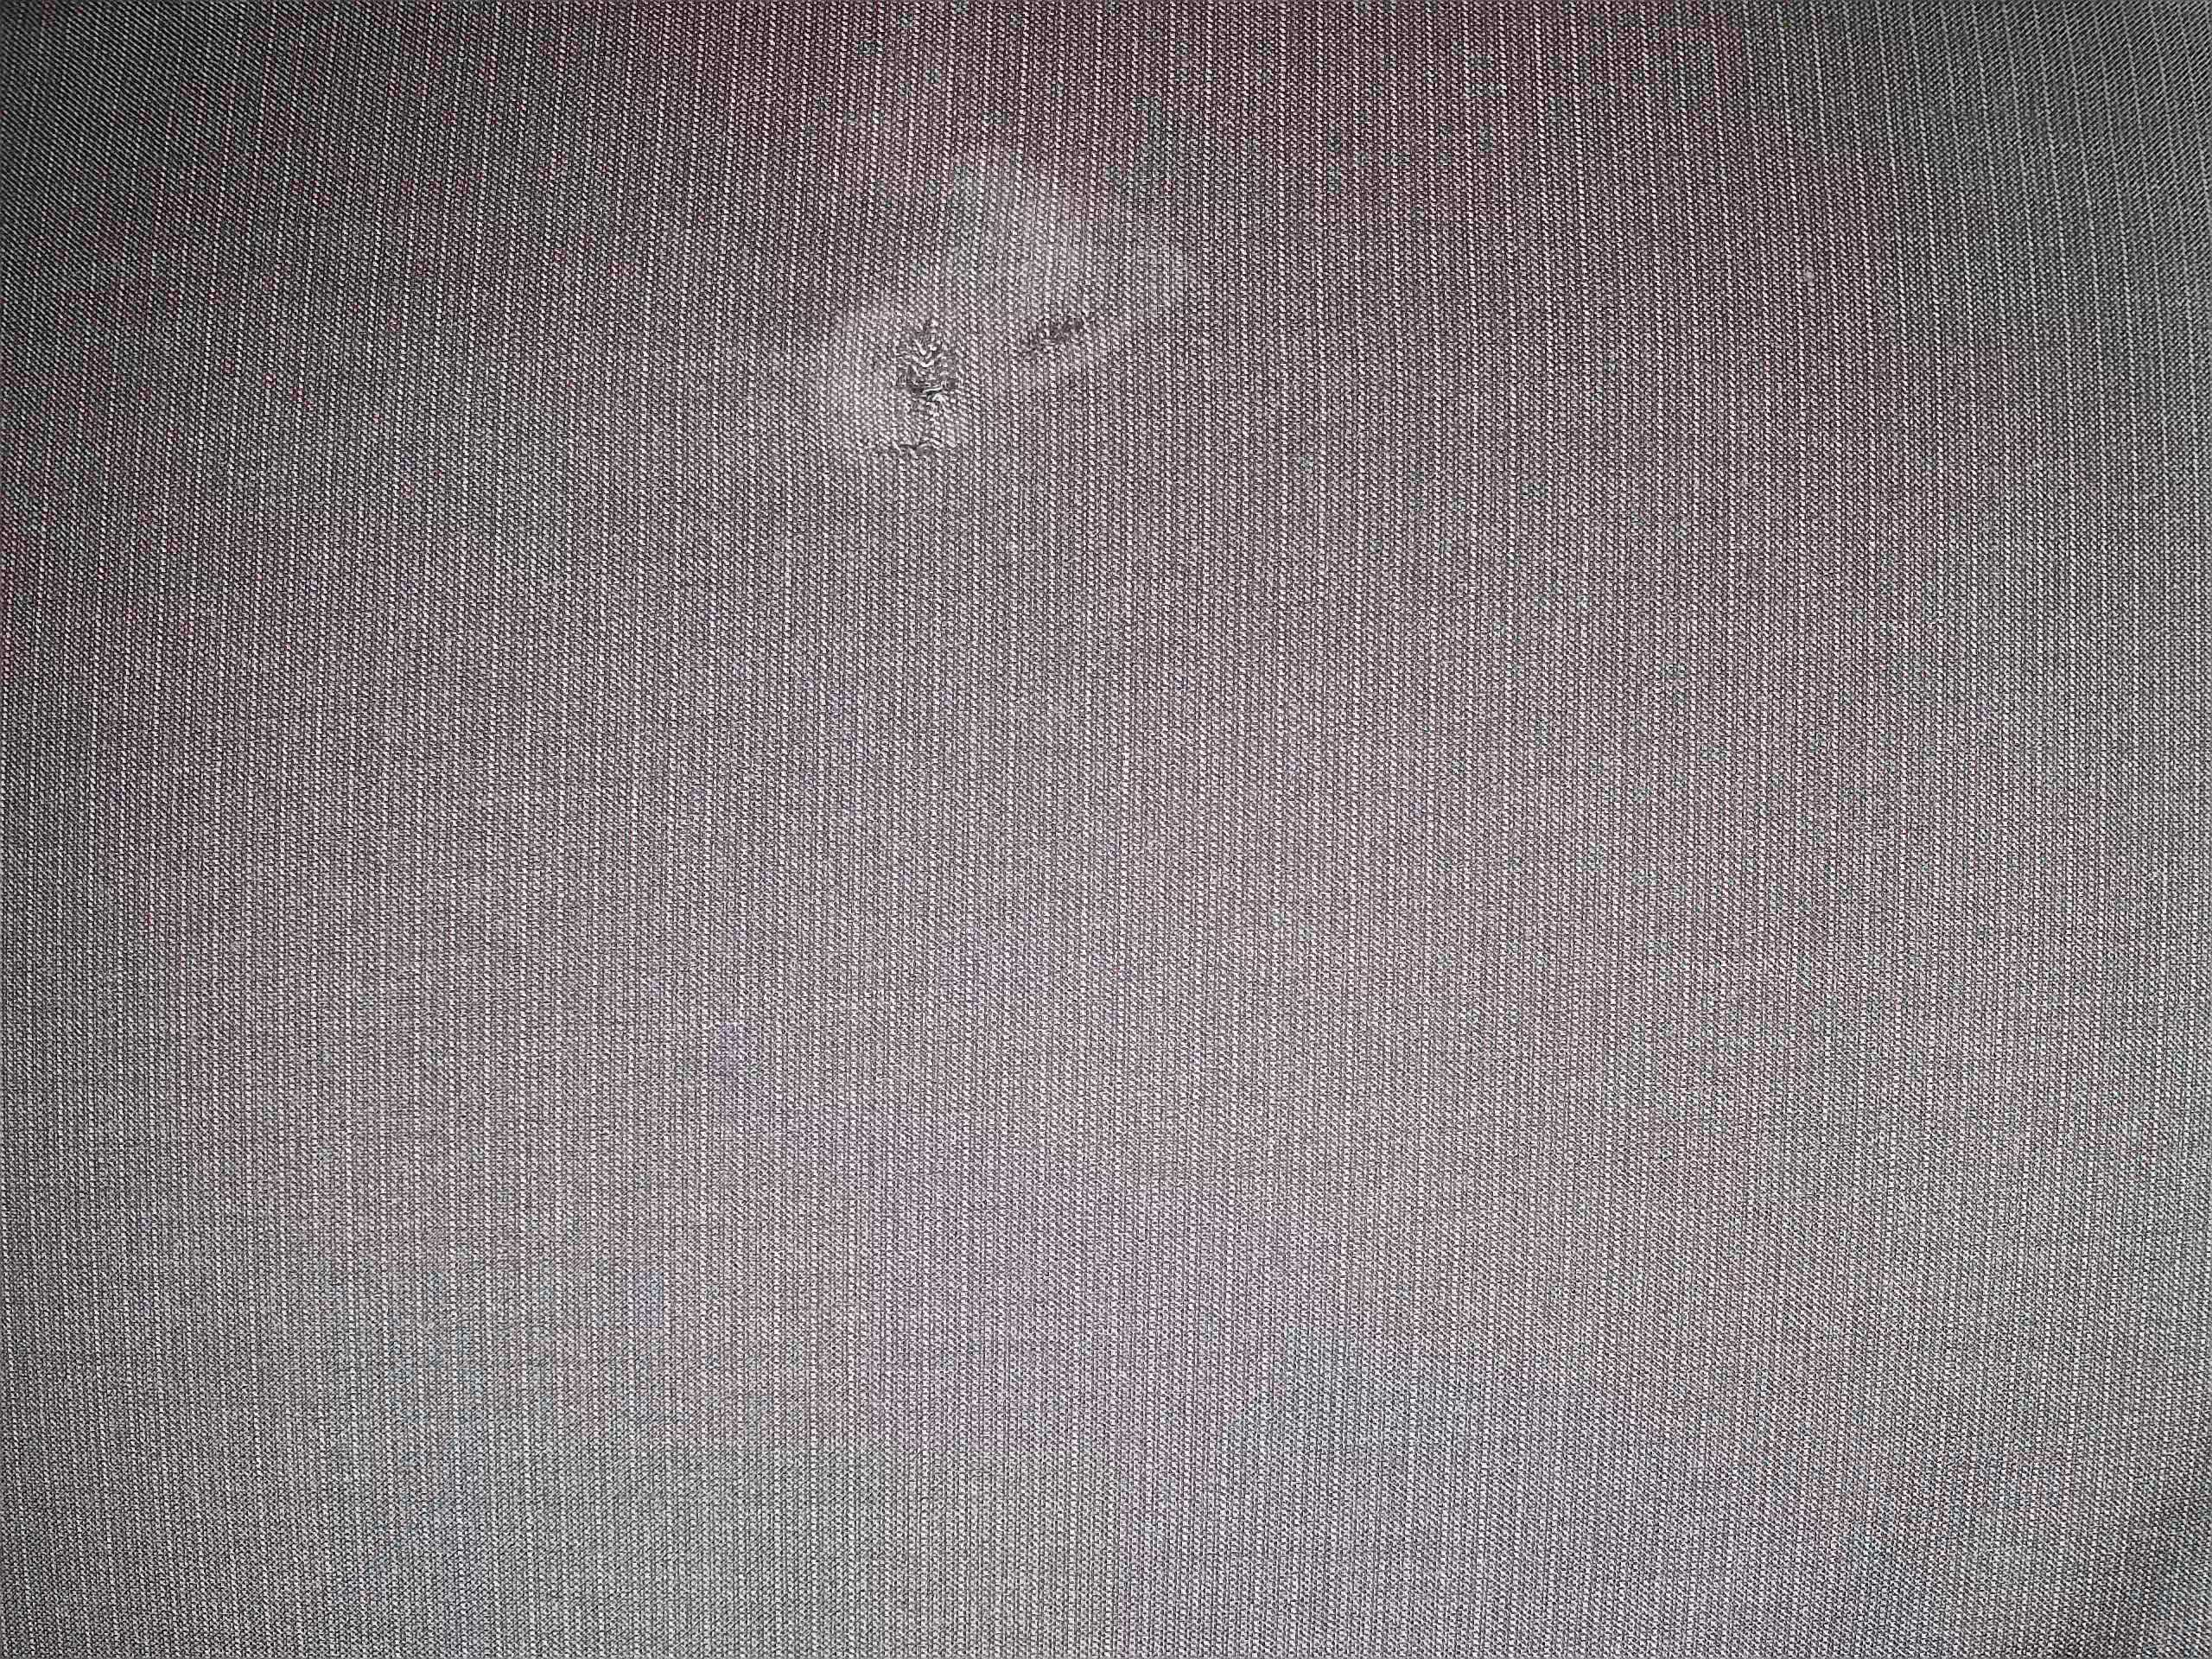knots: (813, 166, 1224, 474)
